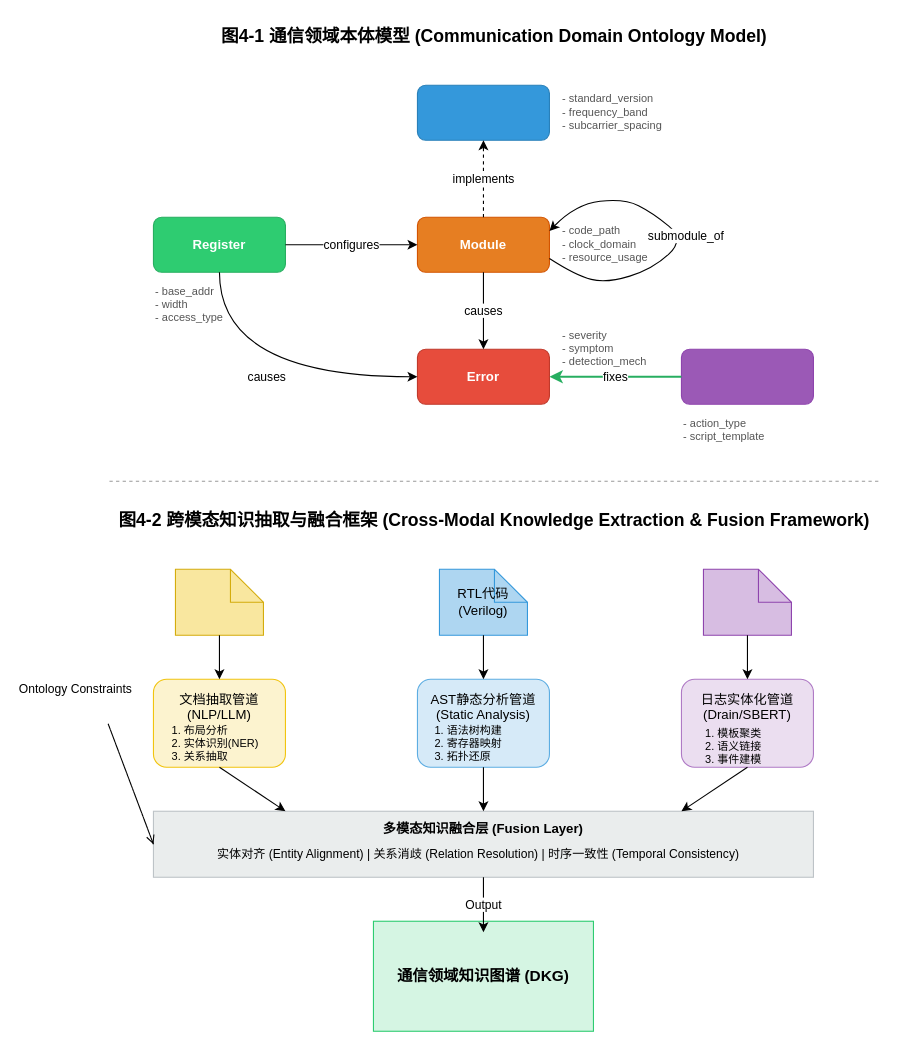
Some shapes in this 900 by 1051 pixel diagram are drawn without their labels. Here are the shapes that lost their labels. From the top down, the centre of each, then its label:
the point at 482,112: Protocol
the point at 746,376: Solution
the point at 218,601: 标准文档 (PDF/Word)
the point at 746,601: 运行日志 (Log Stream)
